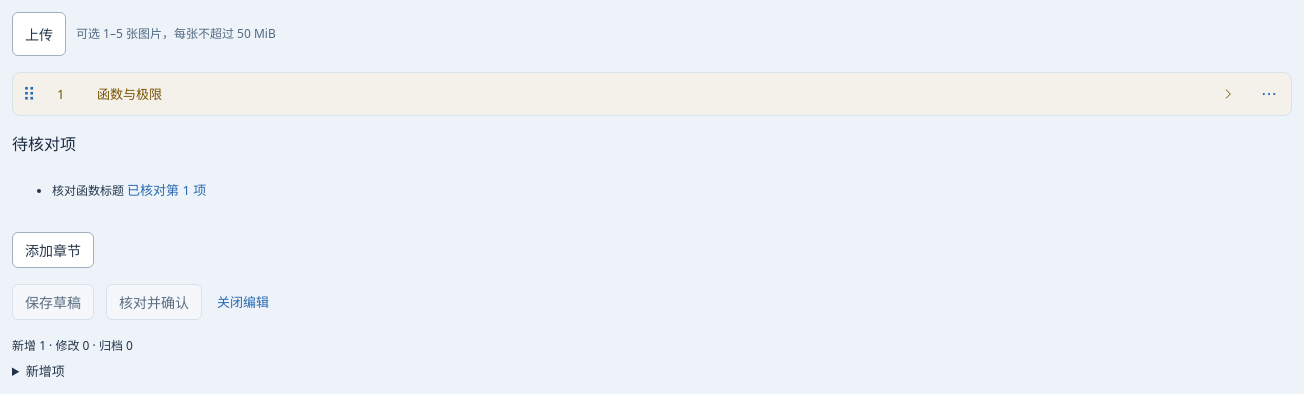
Test case: reviewed curriculum › requires reviewing uncertain directory titles before confirmation
This screenshot has width=1304, height=394.
Expected: the button "核对并确认" is disabled, [106,284,202,320]
Click the button "已核对第 1 项": click(167, 190) [124,172,209,208]
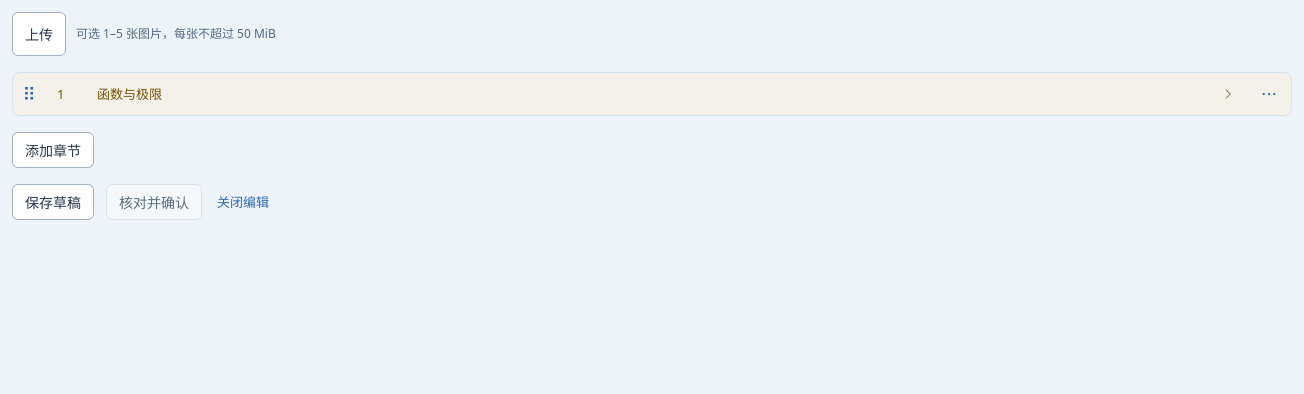
Expected: the button "核对并确认" is disabled, [106,184,202,220]
Now the button "保存草稿" is enabled, box [12,184,94,220]
